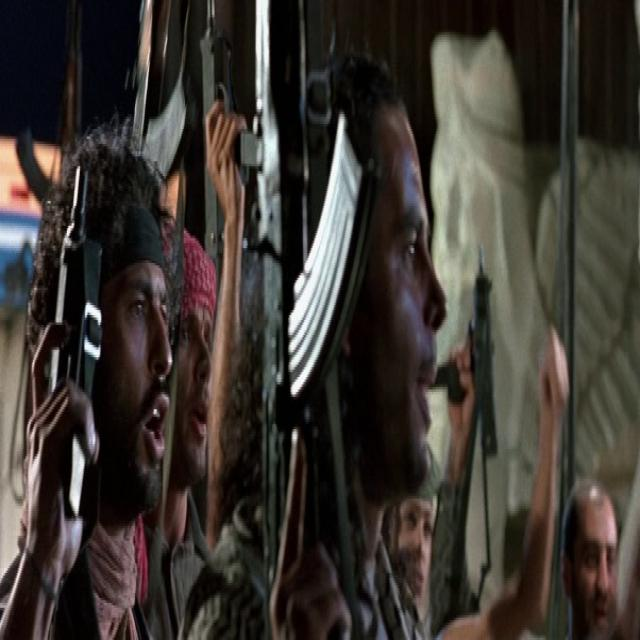rifle: (235, 5, 384, 640)
